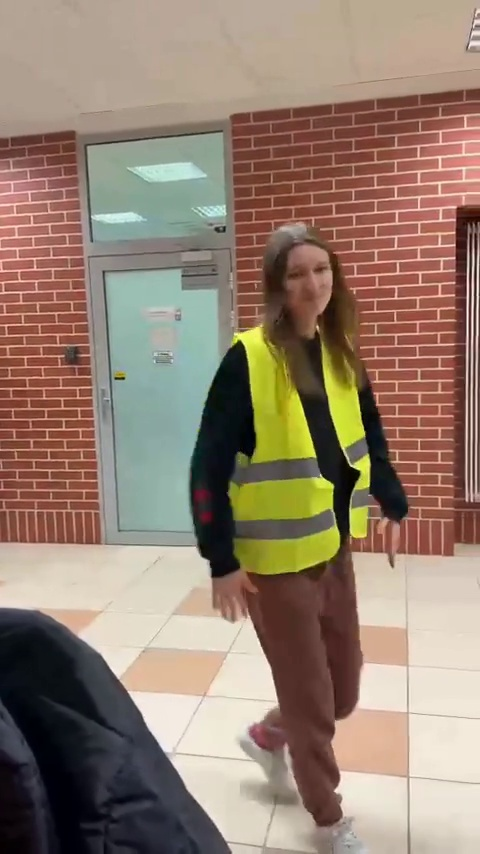vest: (195, 222, 414, 825)
